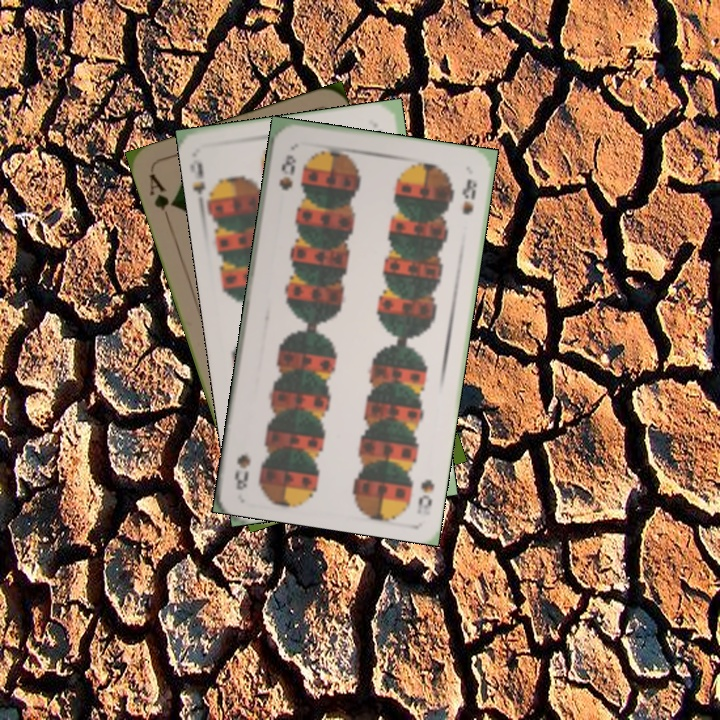GA: (145, 169, 178, 227)
S8: (412, 475, 437, 518), (275, 150, 299, 193)
S9: (190, 158, 219, 212)
